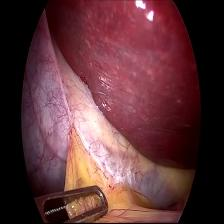Grasper: (34, 181, 116, 224)
